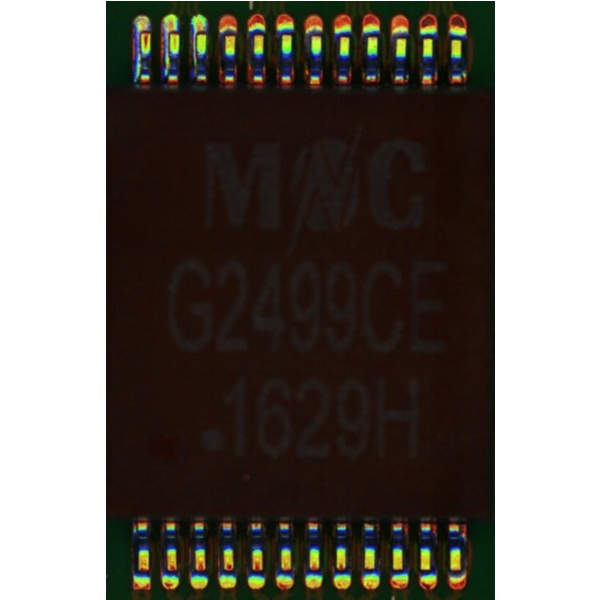Bad_podu: (196, 24, 205, 38), (168, 25, 178, 37), (139, 26, 148, 37)
Bad_qiaojiao: (133, 32, 139, 82), (163, 33, 168, 75), (191, 33, 196, 74)
